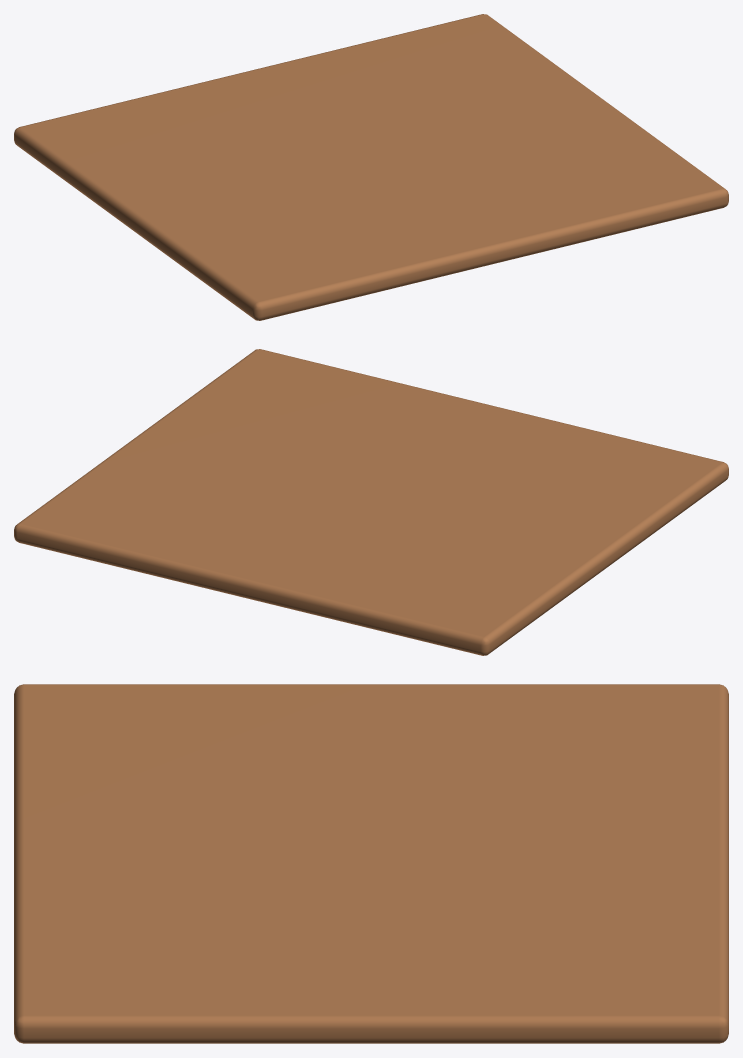
Rendered from floor-plinth.glb.
The picture shows the model from 3 angles, top to bottom: view 1: azimuth 30°, elevation 25°; view 2: azimuth 150°, elevation 25°; view 3: azimuth 270°, elevation 25°; orthographic projection. The views are drawn at different scales.
Visible parts, largest first — view 1: Floating plinth; view 2: Floating plinth; view 3: Floating plinth.
Boxes of the visible parts, <box> form: Floating plinth: <box>14,14,728,320</box>; Floating plinth: <box>14,349,728,655</box>; Floating plinth: <box>14,684,728,1043</box>.
Bounding box in the file's own units: 11.1 × 0.42 × 9.9.
